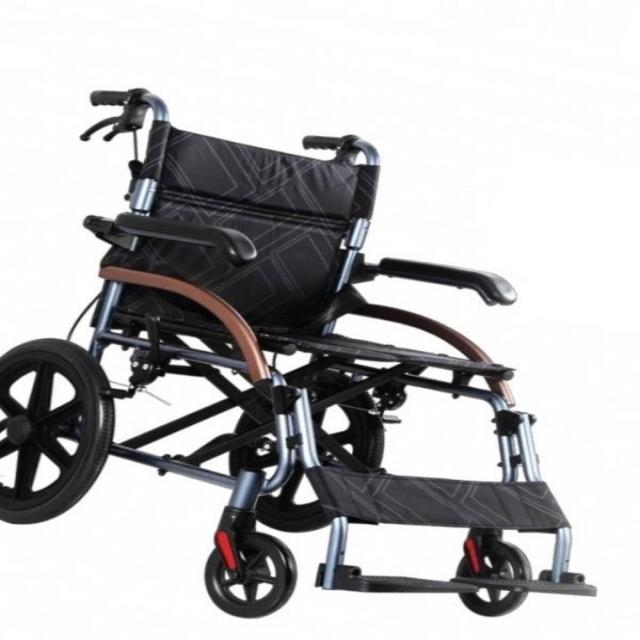wheelchair: (1, 79, 635, 629)
